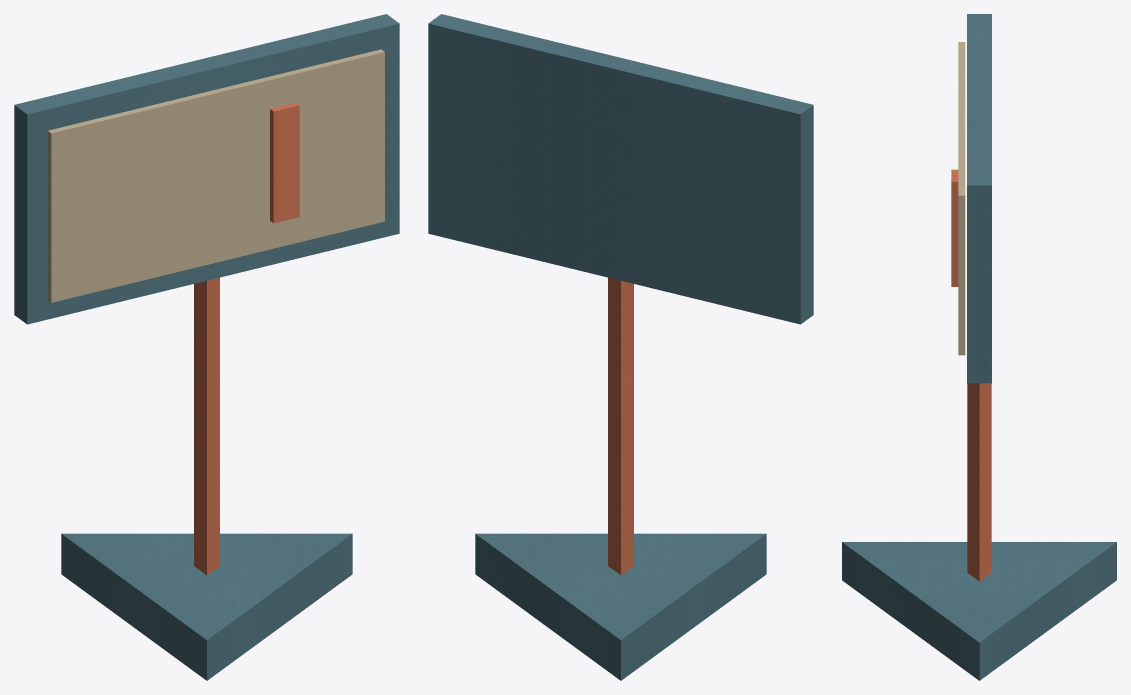
Rendered from atlas100-s042-a11.lod2.glb.
3 views of the same model, side by side, from view 1: azimuth 30°, elevation 25°; view 2: azimuth 150°, elevation 25°; view 3: azimuth 270°, elevation 25° (orthographic). The views are drawn at different scales.
Parts seen in each view (by area): view 1: atlas100-s042-a11:part-003, atlas100-s042-a11:part-002, atlas100-s042-a11:part-000, atlas100-s042-a11:part-001, atlas100-s042-a11:part-006; view 2: atlas100-s042-a11:part-002, atlas100-s042-a11:part-000, atlas100-s042-a11:part-001; view 3: atlas100-s042-a11:part-000, atlas100-s042-a11:part-002, atlas100-s042-a11:part-001, atlas100-s042-a11:part-003, atlas100-s042-a11:part-006.
Part boxes in pixels (left/top/right/bottom): atlas100-s042-a11:part-003: left=47, top=49, right=384, bottom=302; atlas100-s042-a11:part-002: left=14, top=14, right=399, bottom=324; atlas100-s042-a11:part-000: left=61, top=533, right=352, bottom=680; atlas100-s042-a11:part-001: left=194, top=277, right=219, bottom=575; atlas100-s042-a11:part-006: left=270, top=102, right=299, bottom=223; atlas100-s042-a11:part-002: left=428, top=14, right=813, bottom=324; atlas100-s042-a11:part-000: left=475, top=533, right=766, bottom=680; atlas100-s042-a11:part-001: left=608, top=277, right=633, bottom=575; atlas100-s042-a11:part-000: left=842, top=542, right=1116, bottom=680; atlas100-s042-a11:part-002: left=967, top=14, right=991, bottom=383; atlas100-s042-a11:part-001: left=967, top=383, right=991, bottom=581; atlas100-s042-a11:part-003: left=958, top=42, right=965, bottom=355; atlas100-s042-a11:part-006: left=951, top=169, right=958, bottom=286.
Bounding box in the file's own units: 1.15 × 1.61 × 0.7794.
Materials: 3 (3 with a texture image).
